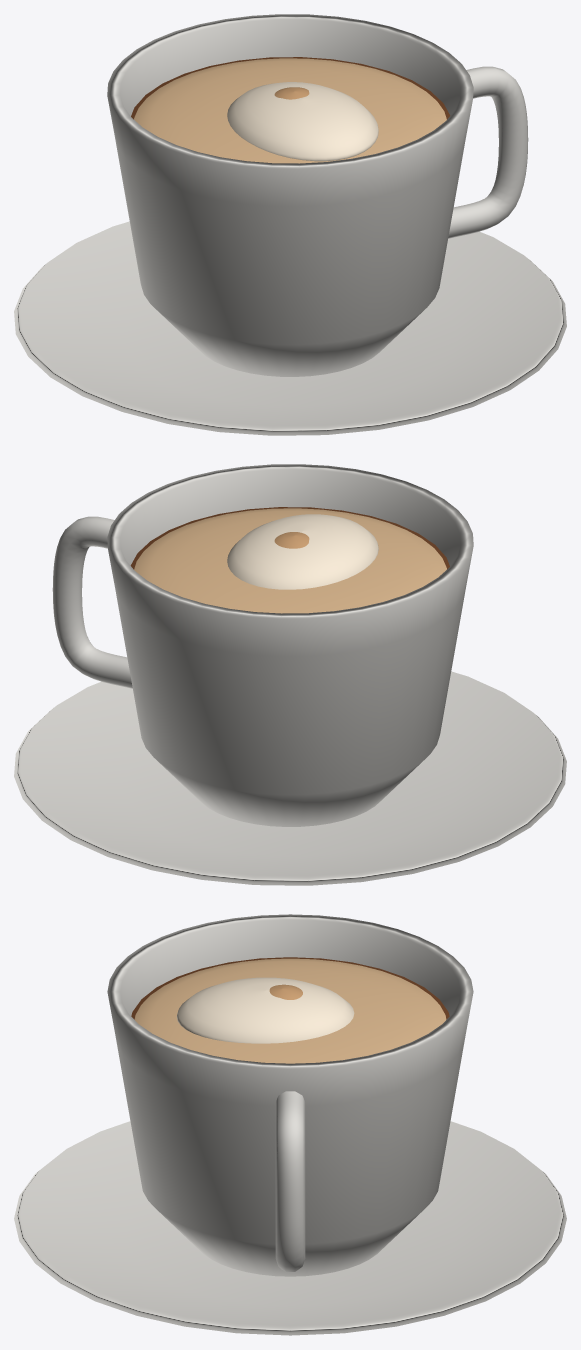
Rendered from alba-flat-white.glb.
3 renders of one model, top to bottom at view 1: azimuth 30°, elevation 25°; view 2: azimuth 150°, elevation 25°; view 3: azimuth 270°, elevation 25°, orthographic.
Size of the model in its own units: 0.148 by 0.0789 by 0.148.
